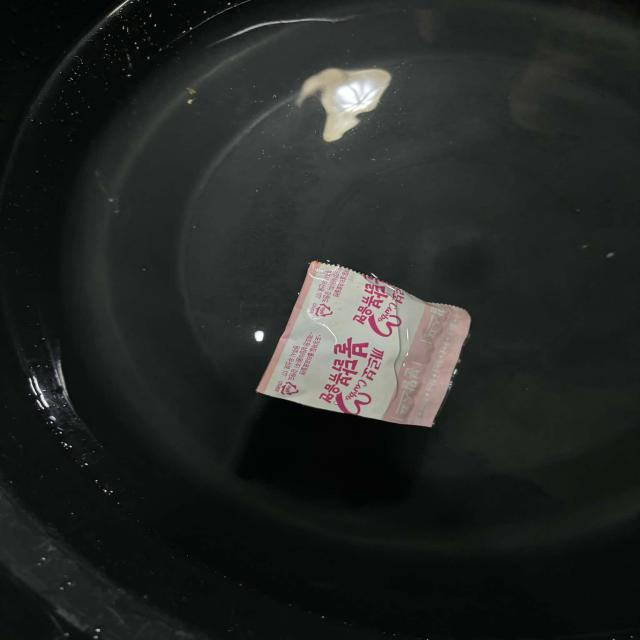Plastic Wrapper: (225, 238, 527, 443)
